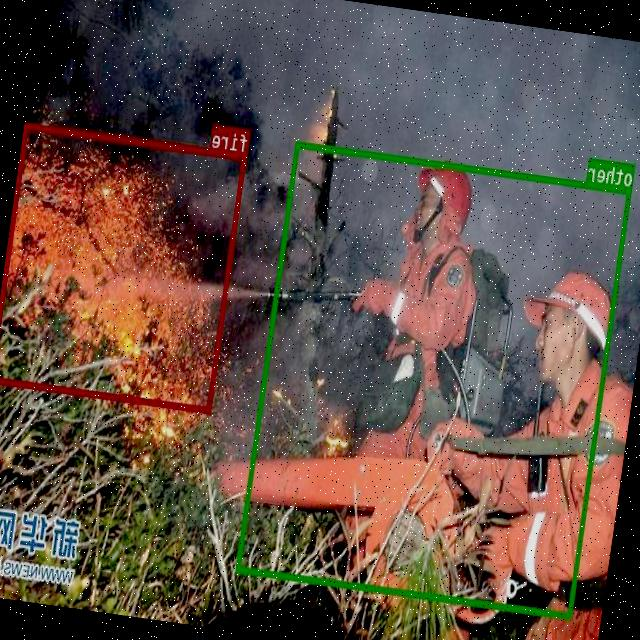fire: (0, 121, 247, 411)
